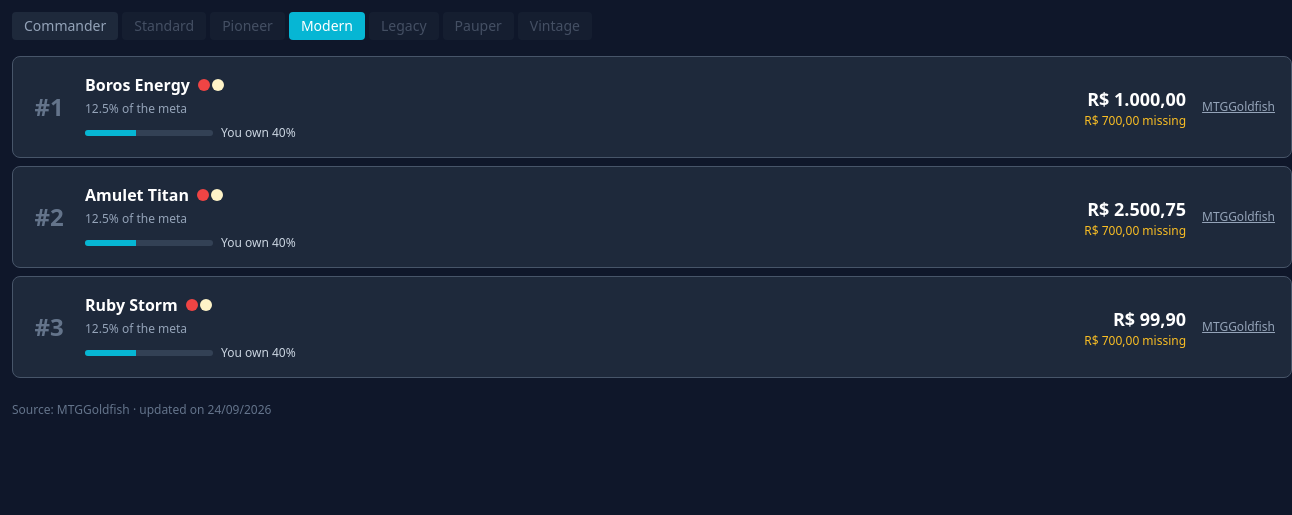
Scenario: MetaDecksPanel › expands a deck showing grouped cards; second click collapses
The width and height of the screenshot is (1292, 515).
Click the button with test id "meta-deck-toggle" that starts with "Amulet Titan" at (137, 195), box [29,183,1186,251]
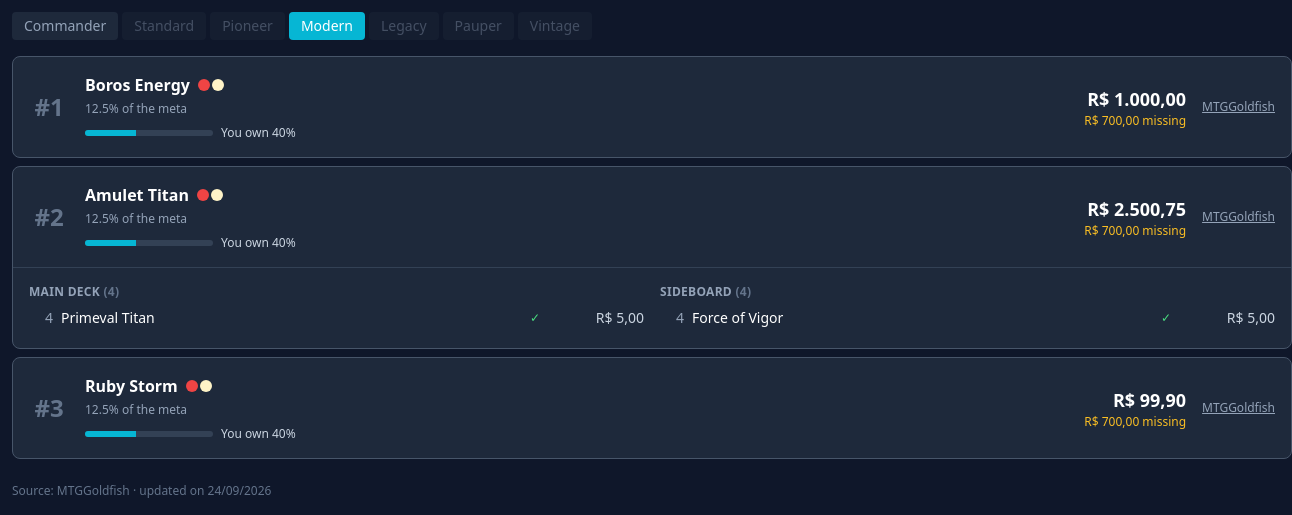
Result: the element with test id "meta-board-main" is shown at [29,284,644,332]
Result: the element with test id "meta-board-side" is shown at [660,284,1275,332]
Click the button with test id "meta-deck-toggle" that starts with "Amulet Titan" at (137, 195), box [29,183,1186,251]
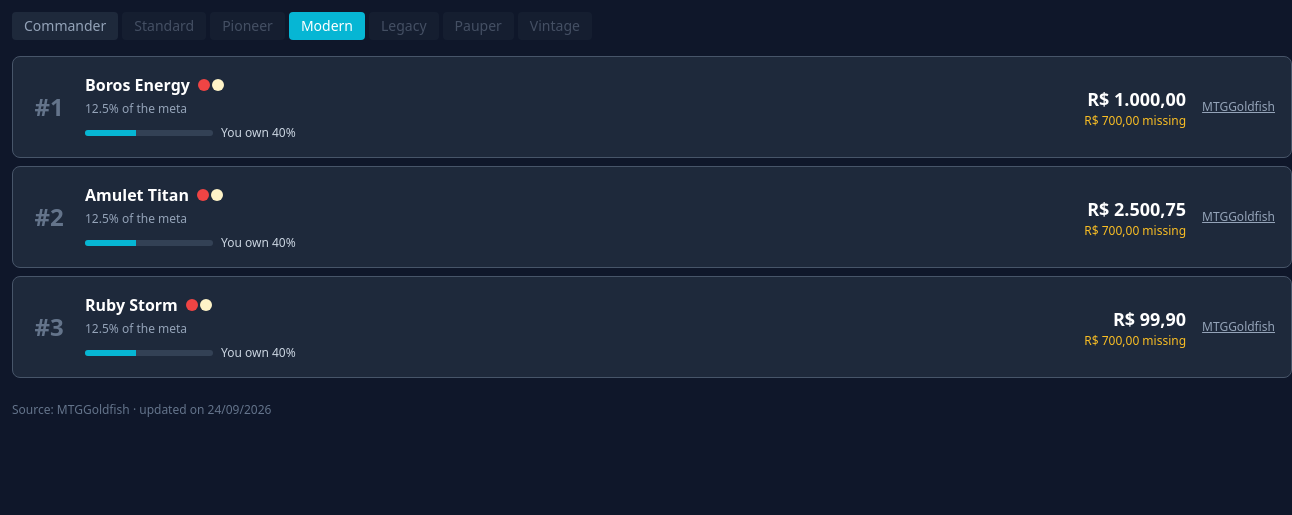
Result: the element with test id "meta-deck-detail" is gone
